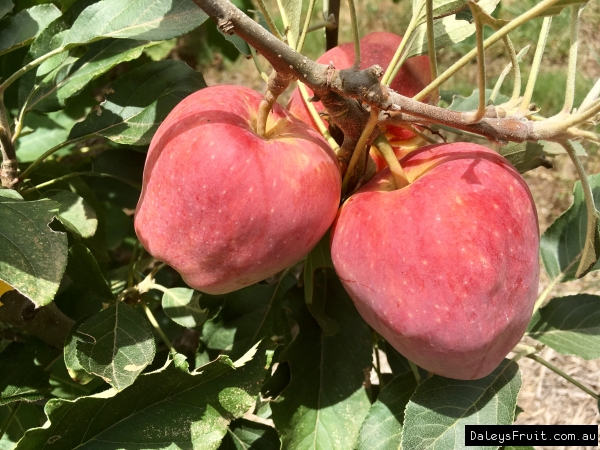apple: (330, 139, 542, 383), (131, 81, 341, 297)
